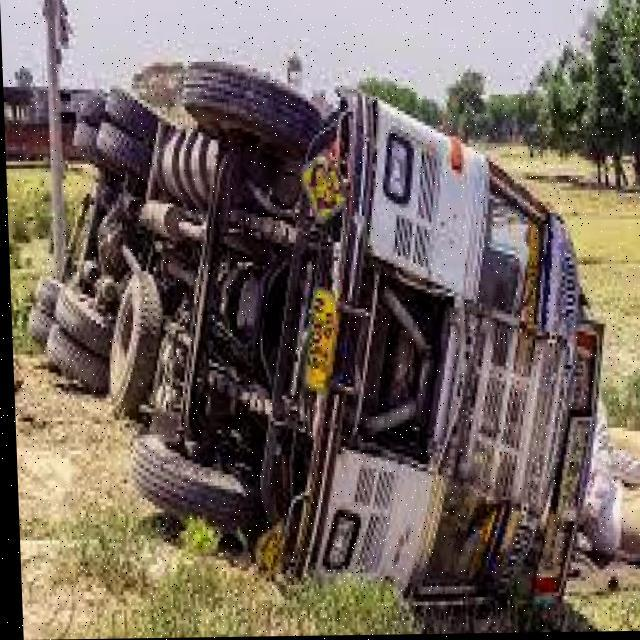single accident: (49, 62, 614, 623)
